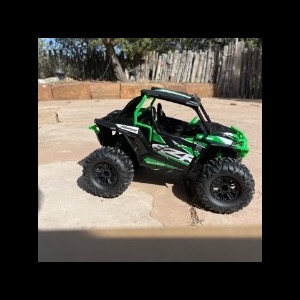polaris: (83, 86, 257, 217)
